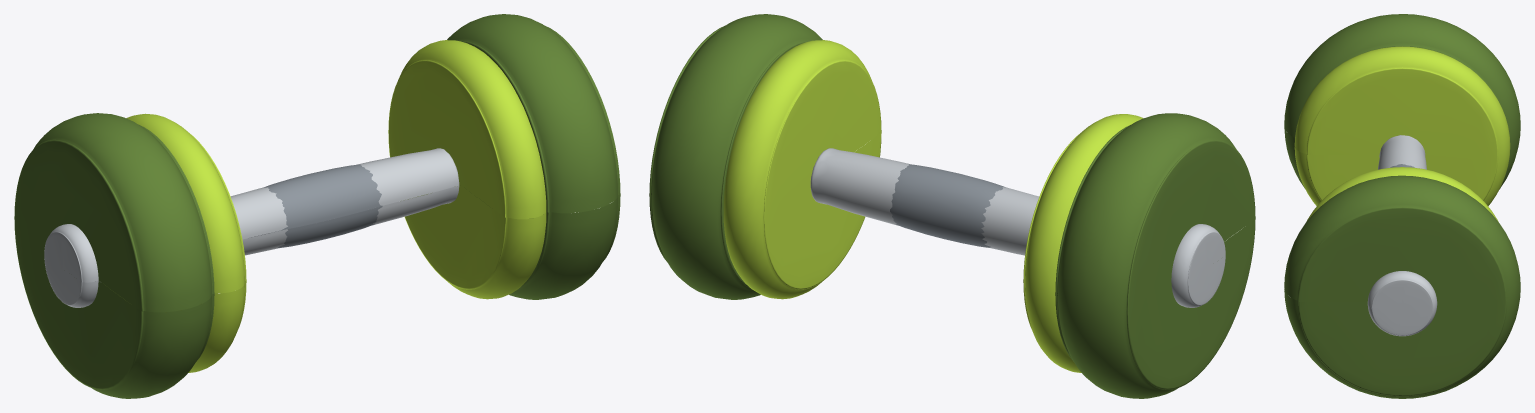
File: dumbbell.glb
The picture shows the model from 3 angles, left to right: view 1: azimuth 30°, elevation 25°; view 2: azimuth 150°, elevation 25°; view 3: azimuth 270°, elevation 25°; orthographic projection. The views are drawn at different scales.
Visible parts, largest first — view 1: plate (×2), handle+hub, grip; view 2: plate (×2), handle+hub, grip; view 3: plate (×2), handle+hub.
Part boxes in pixels (x1,y1,x2,y2): plate (×2): (14, 14, 620, 398); handle+hub: (44, 148, 459, 307); grip: (251, 164, 382, 247); plate (×2): (649, 14, 1255, 398); handle+hub: (810, 148, 1225, 307); grip: (890, 164, 1005, 247); plate (×2): (1284, 14, 1520, 398); handle+hub: (1367, 135, 1437, 336).
Bounding box in the file's own units: 1.38 × 0.6801 × 0.68.
